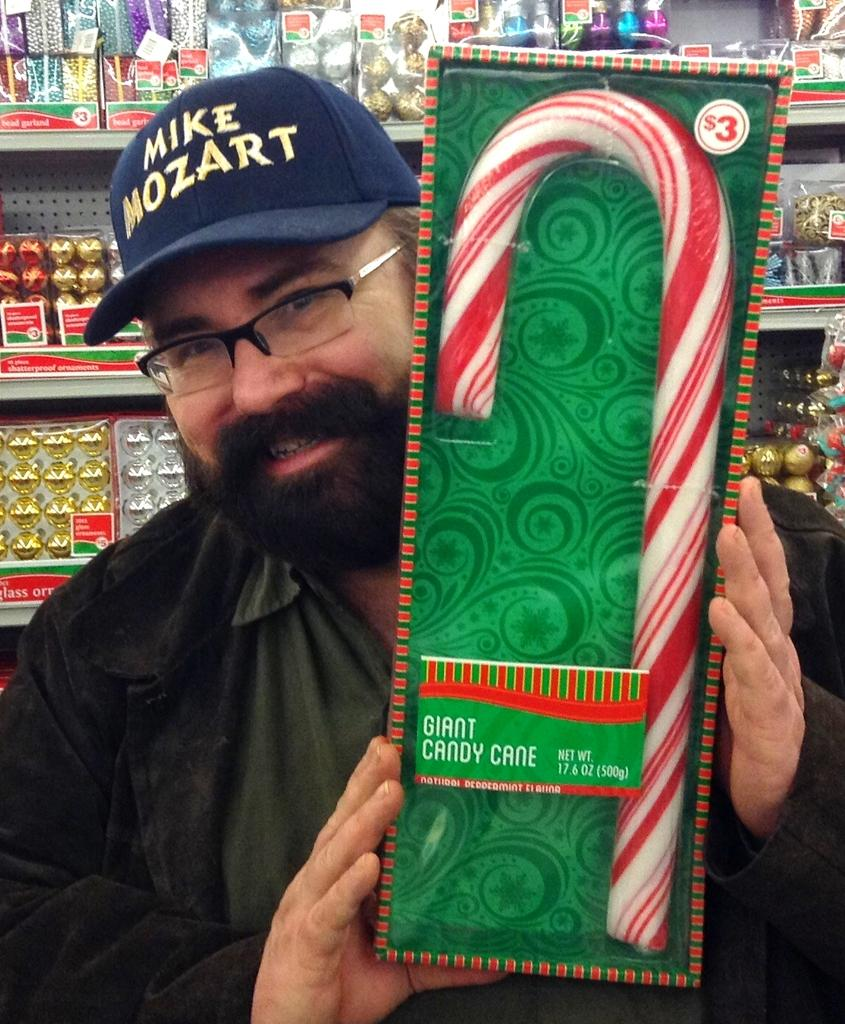Hat: (81, 59, 427, 342)
